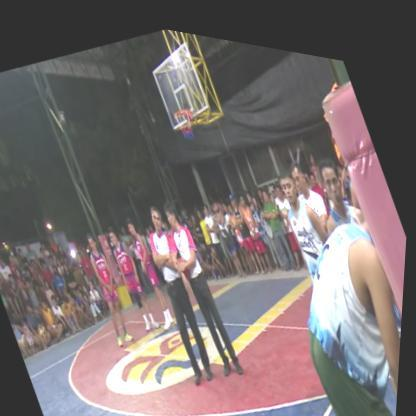basketball: (174, 244, 196, 276)
rim: (167, 90, 207, 143)
